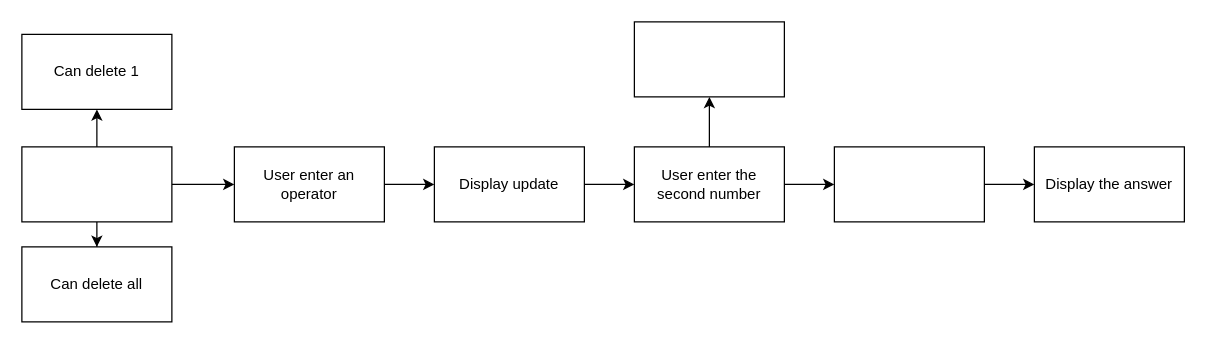
Some shapes in this 1206 by 344 pixel diagram are drawn without their labels. Here are the shapes that lost their labels. From the top down, the box of each, then its label:
(633, 21, 784, 97): User enter more number
(21, 146, 172, 222): User enter a number
(833, 146, 984, 222): User press equls
